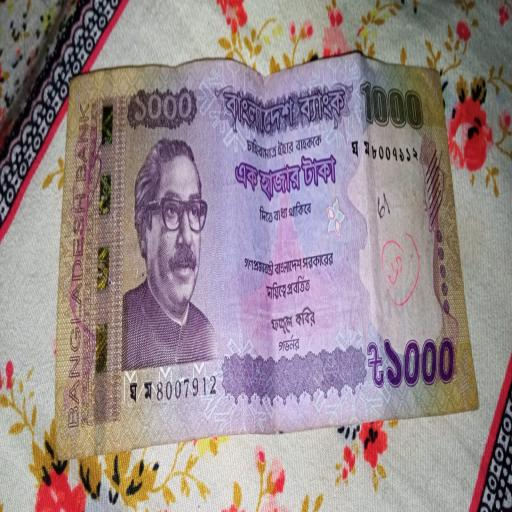1000taka: (55, 68, 479, 423)
